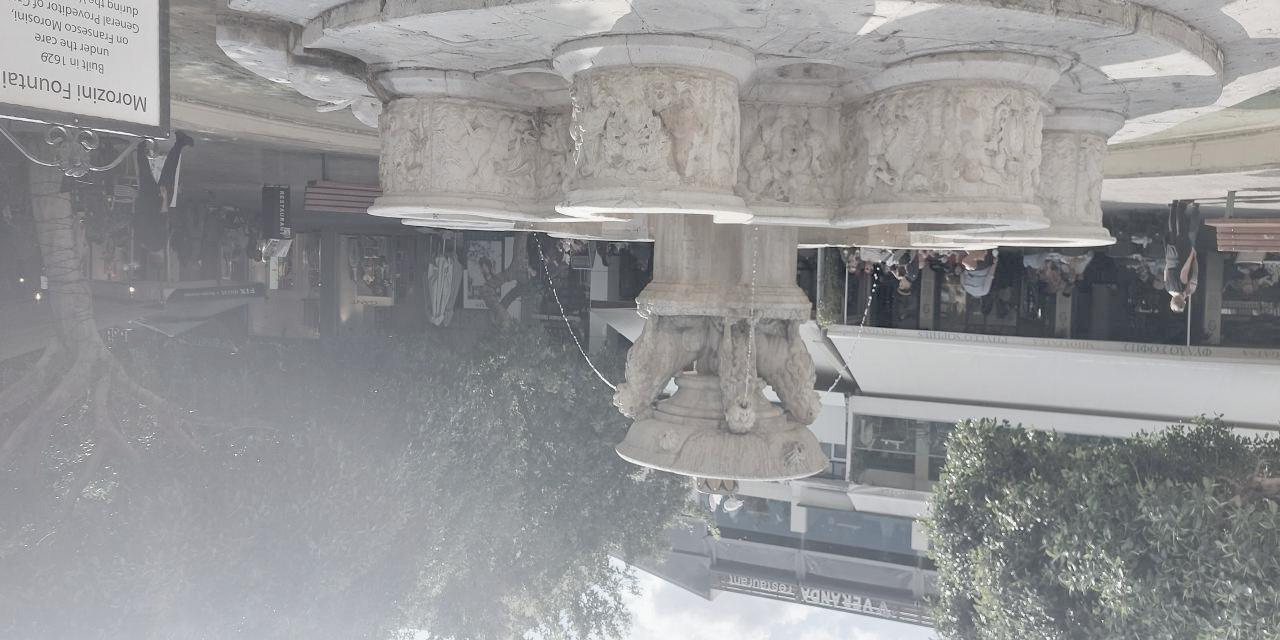Liontaria: (364, 33, 1119, 504)
